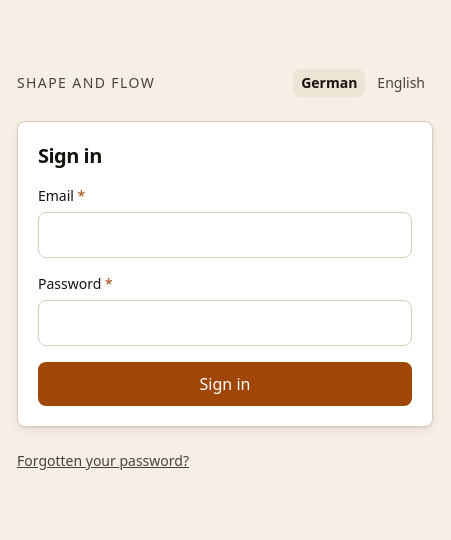
Test: OfficeLogin › separates a rate limit from a wrong password
Type "mara@shapeandflow.test" into the field labelled "Email *" at (225, 235), box x1=38 y1=212 x2=412 y2=258
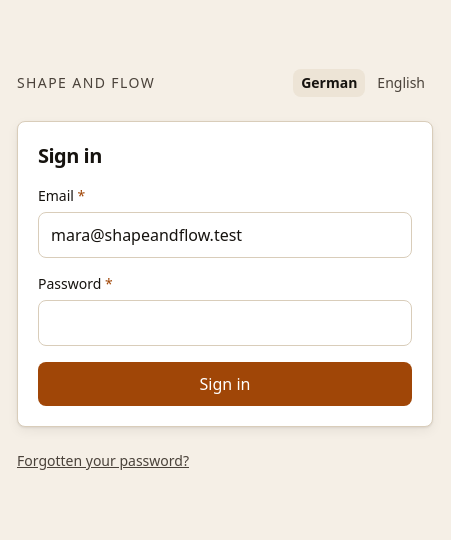
Type "correct horse battery" into the password field labelled "Password *" at (225, 323), box x1=38 y1=300 x2=412 y2=346
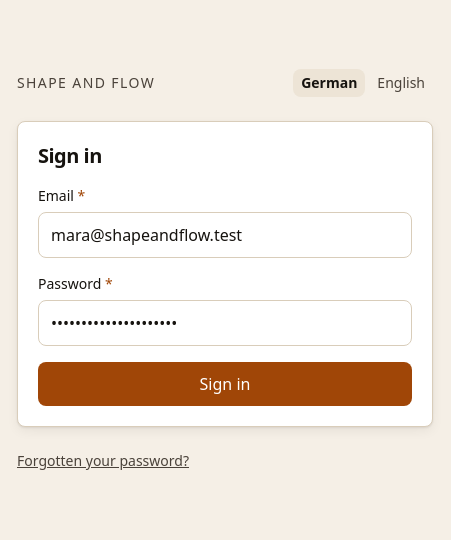
Submit the form, box x1=38 y1=186 x2=412 y2=406
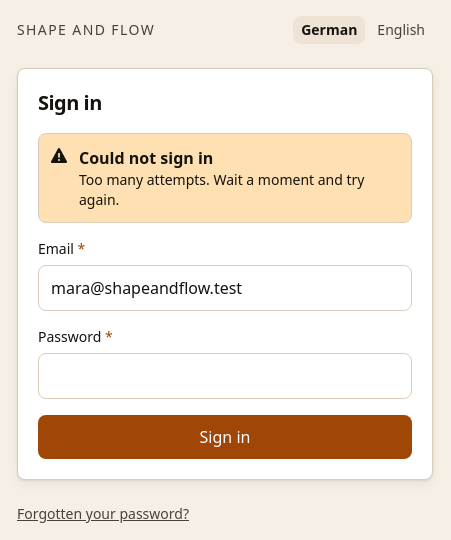
Now the message with test id "problem" shows "Too many", box x1=79 y1=170 x2=364 y2=209
